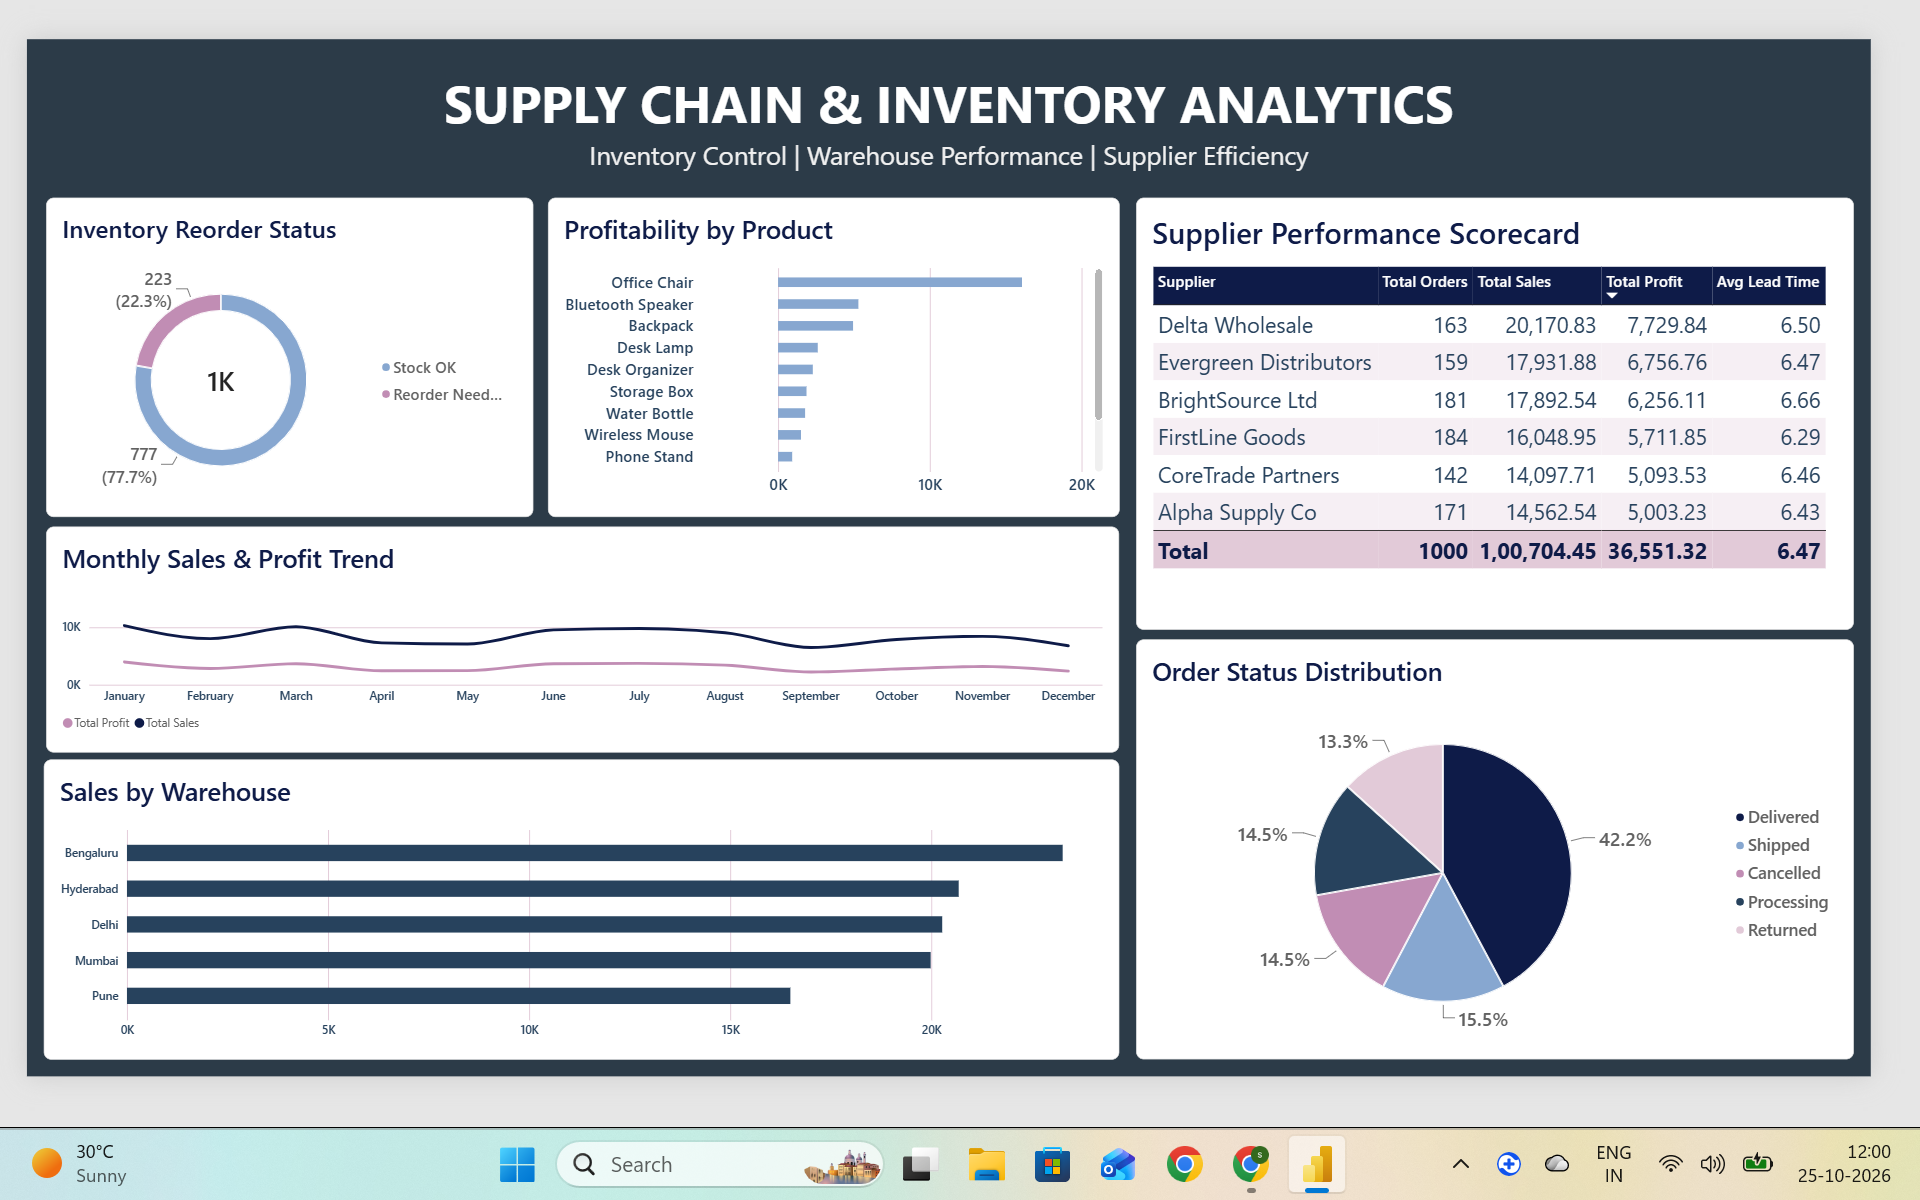

The page's visual inventory and layout, read from the dashboard file:
{"tool":"powerbi","page":{"name":"Page 1","canvas":[1920,1080],"ordinal":0},"visuals":[{"type":"textbox","title":"SUPPLY CHAIN & INVENTORY ANALYTICS","box":[17.5,30,1885,115],"z":0},{"type":"donutChart","title":"Inventory Reorder Status","fields":{"Category":["supply_chain_cleaned.ReorderStatus"],"Y":["CountNonNull(supply_chain_cleaned.ReorderStatus)"]},"box":[20,165,507.5,332.5],"z":1000},{"type":"clusteredBarChart","title":"Sales by Warehouse","fields":{"Category":["supply_chain_cleaned.Warehouse"],"Y":["Sum(supply_chain_cleaned.Sales)"]},"box":[17.5,750,1120,312.5],"z":2000},{"type":"tableEx","title":"Supplier Performance Scorecard","fields":{"Values":["supply_chain_cleaned.Supplier","supply_chain_cleaned.Total Orders","supply_chain_cleaned.Total Sales","supply_chain_cleaned.Total Profit","supply_chain_cleaned.Average Lead Time"]},"box":[1155,165,747.5,450],"z":3000},{"type":"clusteredBarChart","title":"Profitability by Product","fields":{"Category":["supply_chain_cleaned.Product"],"Y":["supply_chain_cleaned.Total Profit"]},"box":[542.5,165,595,332.5],"z":4000},{"type":"lineChart","title":"Monthly Sales & Profit Trend","fields":{"Category":["supply_chain_cleaned.Month.Variation.Date Hierarchy.Month"],"Y":["supply_chain_cleaned.Total Profit","supply_chain_cleaned.Total Sales"]},"box":[20,507.5,1117.5,235],"z":5000},{"type":"pieChart","title":"Order Status Distribution","fields":{"Category":["supply_chain_cleaned.OrderStatus"],"Y":["CountNonNull(supply_chain_cleaned.OrderID)"]},"box":[1155,625,747.5,437.5],"z":6000}]}

Visuals, with their boxes in screenshot pixels (x1, y1, x2, y2):
"SUPPLY CHAIN & INVENTORY ANALYTICS" textbox: l=52, t=74, r=1845, b=183
"Inventory Reorder Status" donutChart: l=54, t=202, r=537, b=518
"Sales by Warehouse" clusteredBarChart: l=52, t=758, r=1117, b=1056
"Supplier Performance Scorecard" tableEx: l=1134, t=202, r=1845, b=630
"Profitability by Product" clusteredBarChart: l=551, t=202, r=1117, b=518
"Monthly Sales & Profit Trend" lineChart: l=54, t=528, r=1117, b=751
"Order Status Distribution" pieChart: l=1134, t=640, r=1845, b=1056
